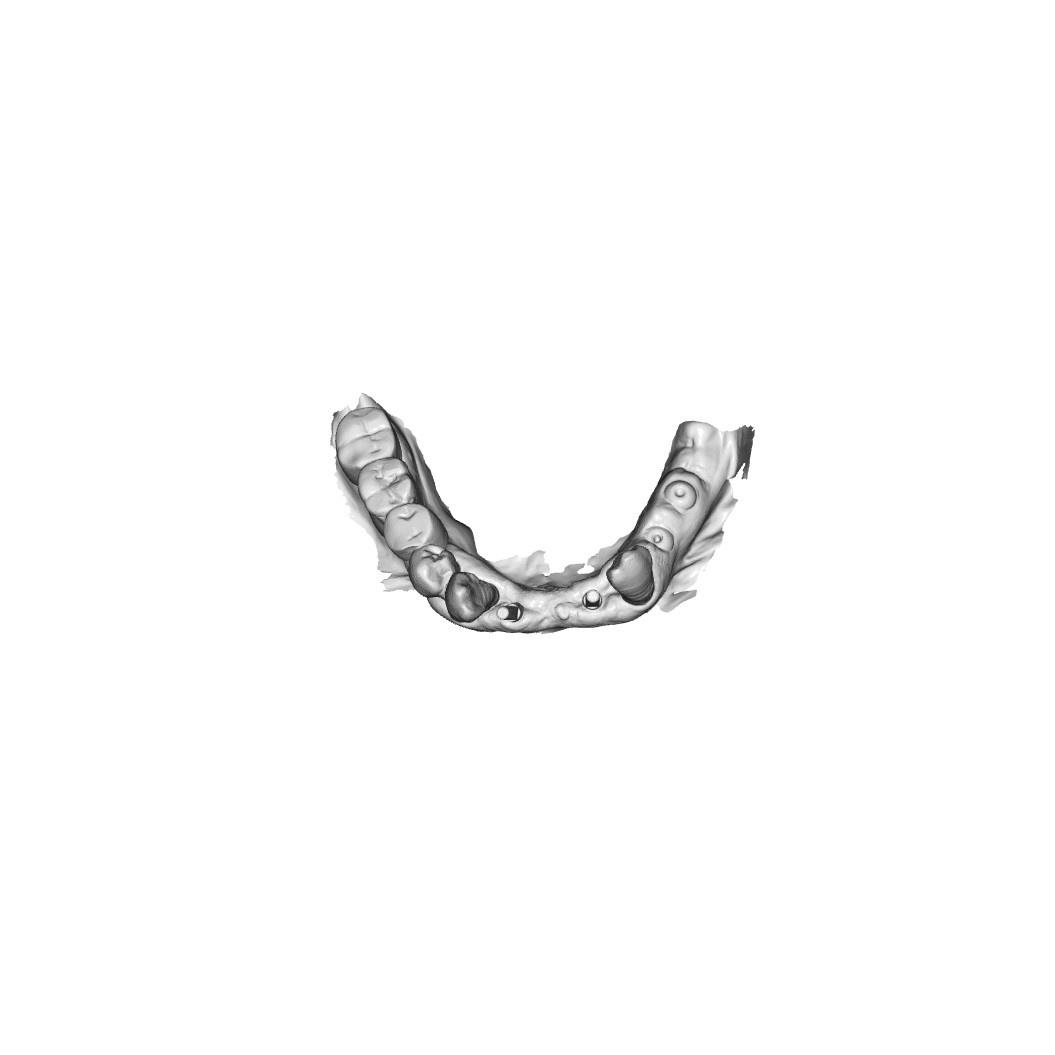abutment: (575, 581, 606, 614), (492, 597, 525, 627)
canine: (602, 544, 659, 605), (445, 574, 498, 623)
implant: (663, 474, 699, 514), (643, 520, 679, 556)
molar: (336, 409, 394, 464), (359, 457, 407, 514)
premolar: (411, 543, 458, 596), (380, 505, 432, 551)
